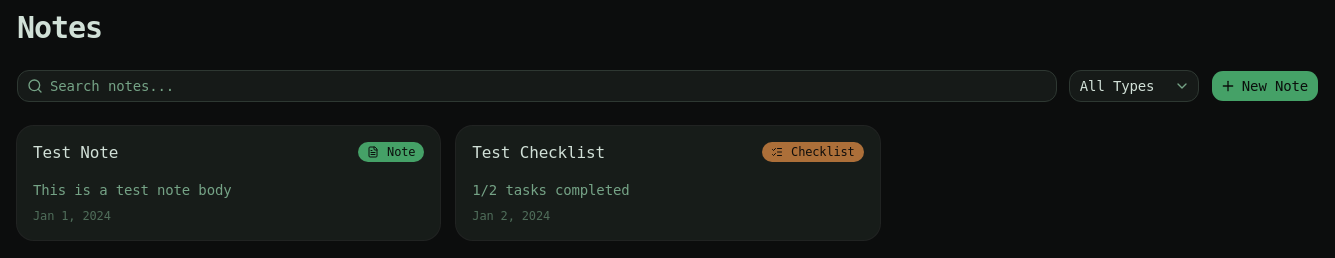
Test: notes page — type filter › shows only checklists when type filter is set to checklists
Expected: the text "Test Note" is shown, top-left (33, 142), bottom-right (118, 164)
Expected: the text "Test Checklist" is shown, top-left (472, 142), bottom-right (605, 164)
Select "Checklists" filter
Click the dropdown at x=1134, y=86, box top-left (1069, 70), bottom-right (1199, 102)
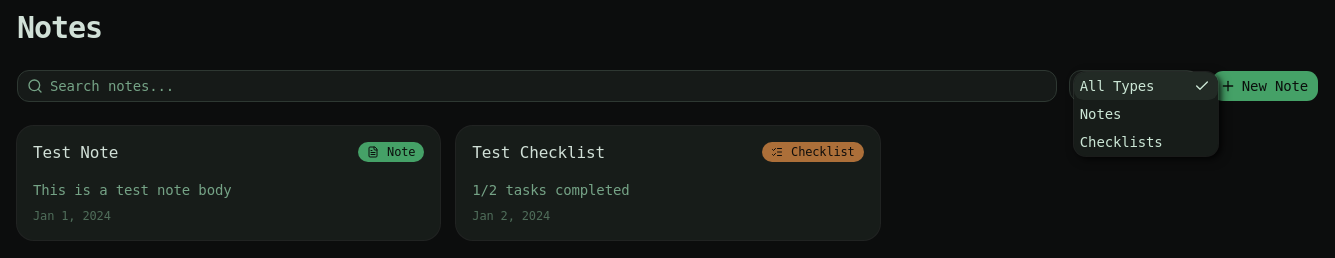
Click the option "Checklists" at x=1121, y=142, box top-left (1080, 134), bottom-right (1162, 150)
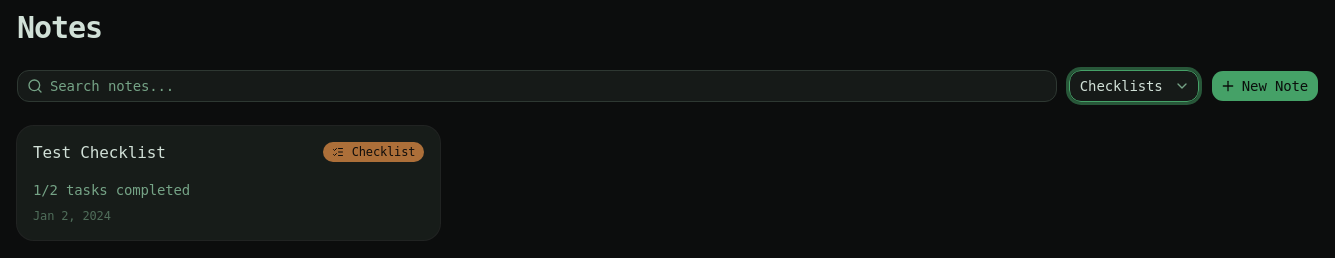
Expected: the text "Test Checklist" is shown, top-left (33, 142), bottom-right (166, 164)
Expected: the text "Test Note" is gone
